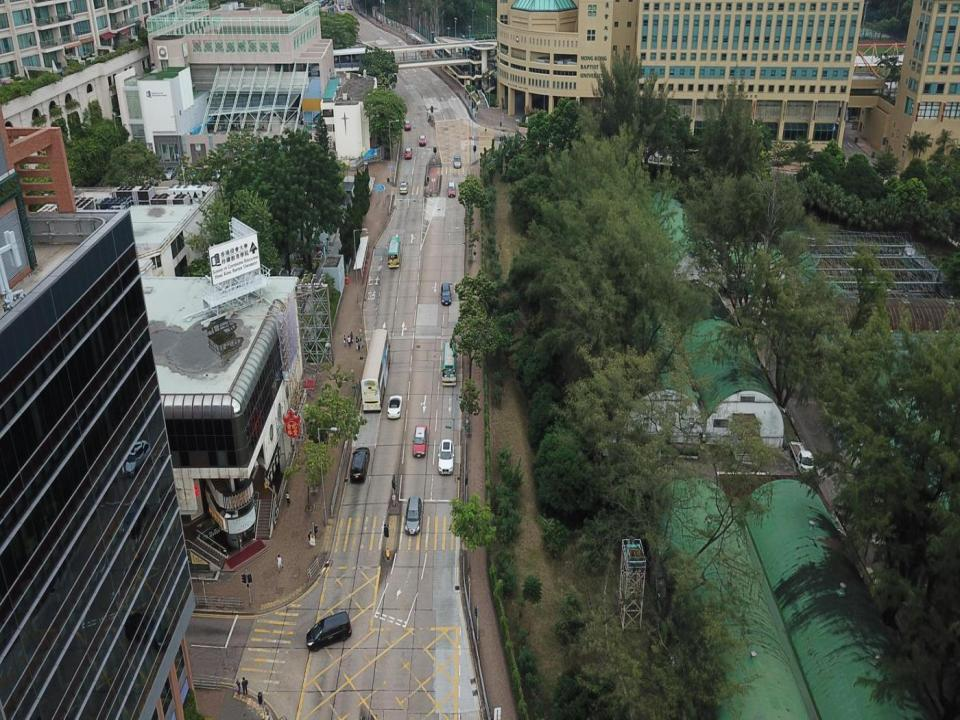bus: (360, 329, 390, 413), (442, 342, 457, 386), (388, 236, 401, 268)
car: (404, 497, 422, 535), (437, 440, 454, 474), (412, 424, 427, 458), (796, 450, 814, 475), (386, 395, 403, 420), (440, 282, 451, 306), (447, 181, 456, 198), (399, 180, 408, 194), (403, 118, 411, 132), (452, 155, 460, 168), (405, 147, 412, 159), (419, 134, 426, 146)
van: (306, 611, 352, 651), (349, 446, 370, 484)
